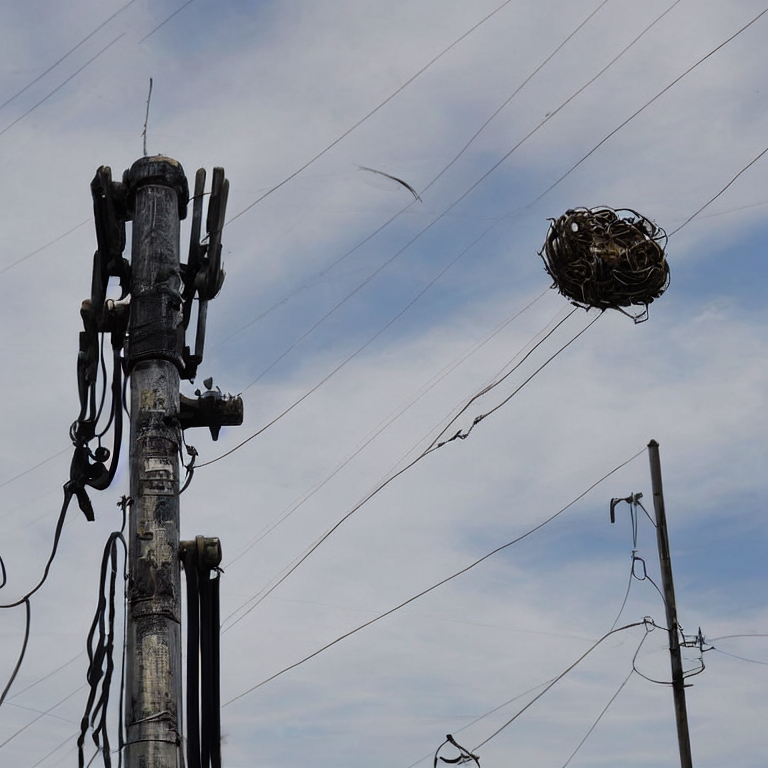nest: (543, 210, 665, 310)
